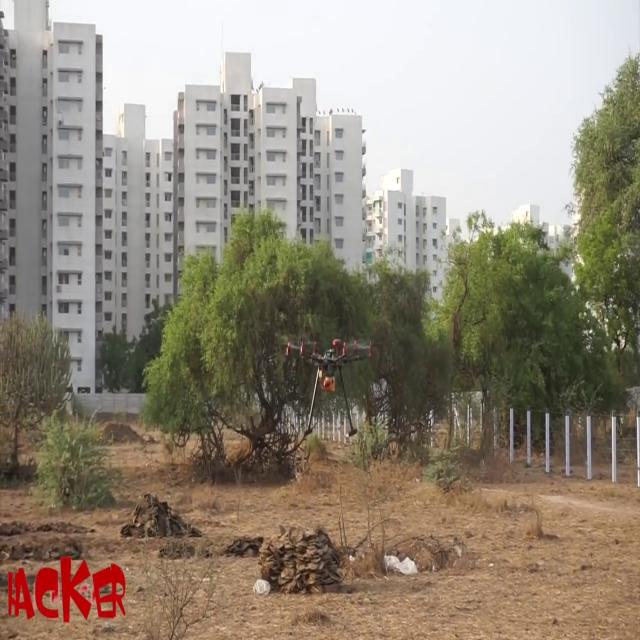drone: (280, 319, 380, 452)
